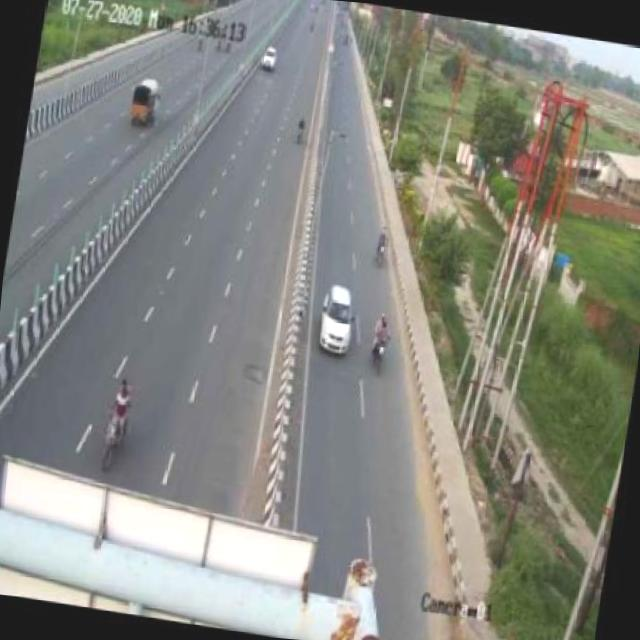car: (311, 282, 364, 356), (257, 46, 282, 71)
